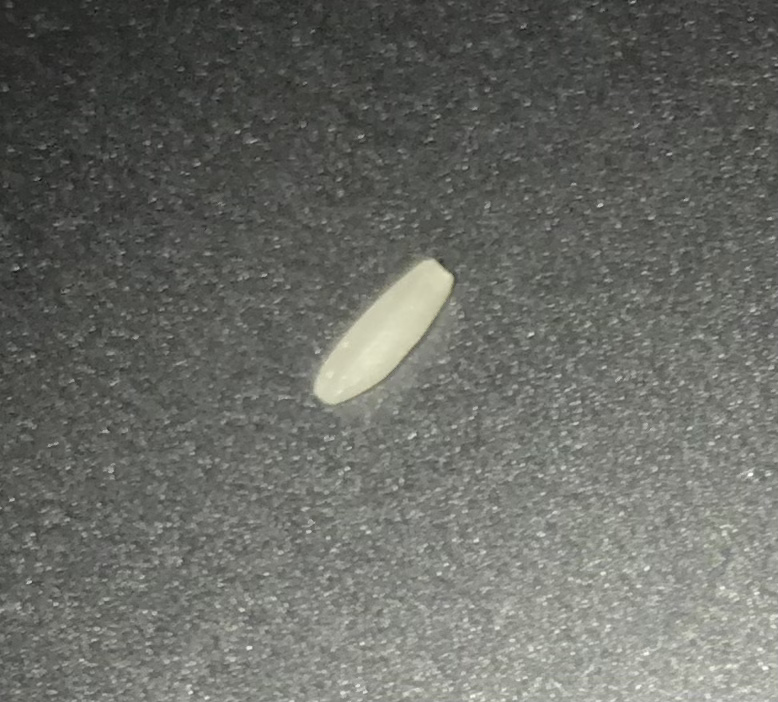Gao Tam Thom: (315, 254, 454, 416)
